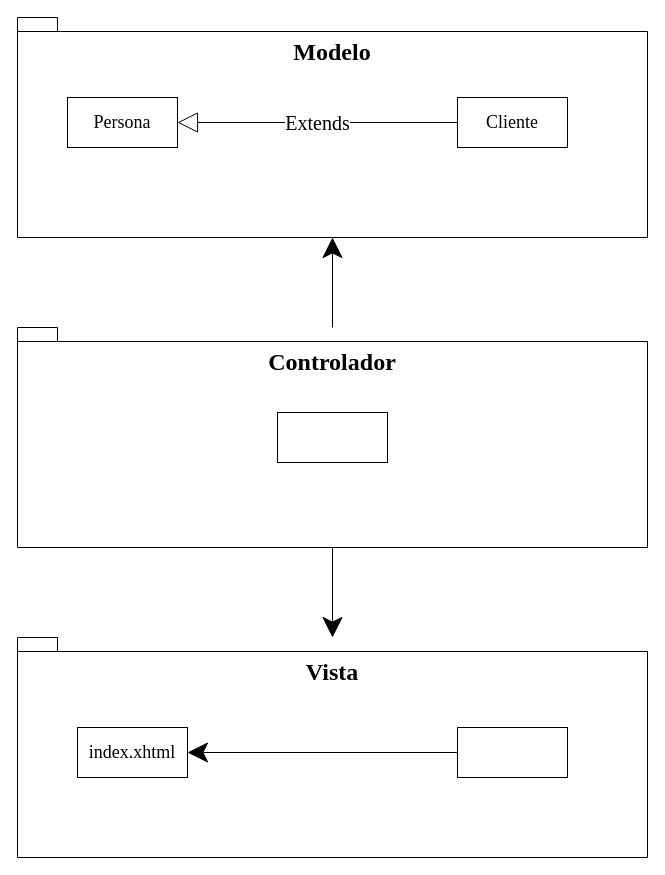
Some shapes in this 665 by 875 pixel diagram are drawn without their labels. The centre of each missing label's shape, as x and y in pixels:
"cdt.xhtml" belongs at point (512, 752).
"DTOBean" belongs at point (332, 437).
